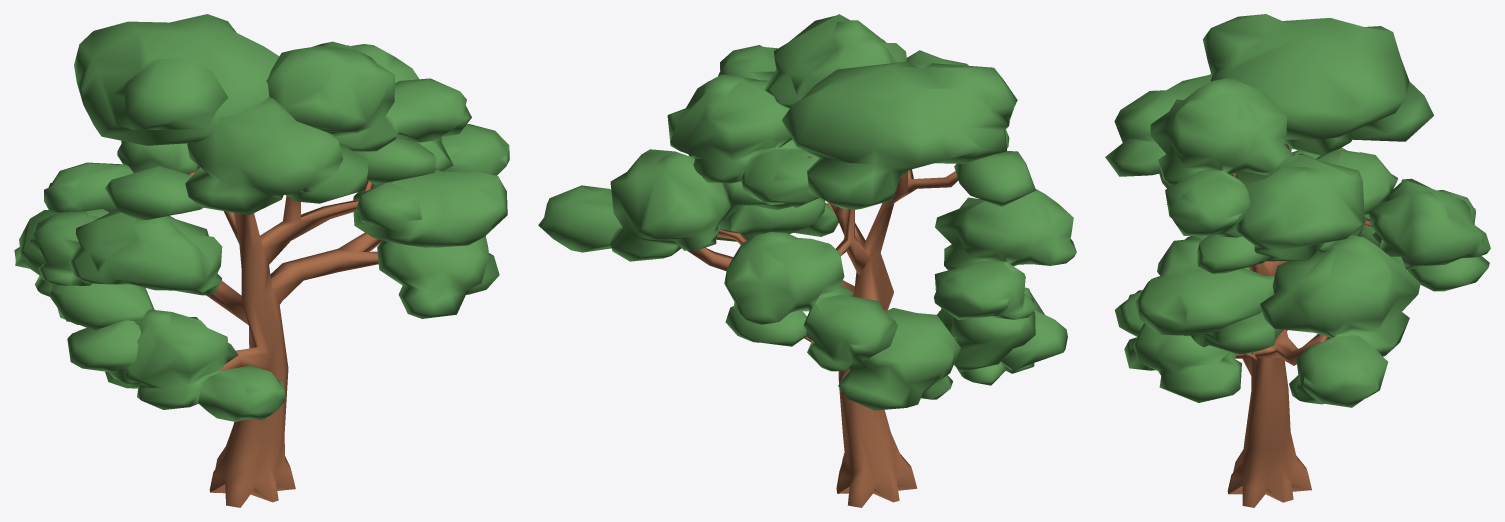
The model's file is Tree2.fbx.
3 views of the same model, side by side, from view 1: azimuth 30°, elevation 25°; view 2: azimuth 150°, elevation 25°; view 3: azimuth 270°, elevation 25° (orthographic). The views are drawn at different scales.
Visible parts, largest first — view 1: Tree2; view 2: Tree2; view 3: Tree2.
Boxes of the visible parts, box(x1,y1,x2,y2) form: Tree2: box(14, 14, 509, 507); Tree2: box(538, 14, 1076, 507); Tree2: box(1105, 14, 1490, 507).
Bounding box in the file's own units: 1435 × 1303 × 1035.
